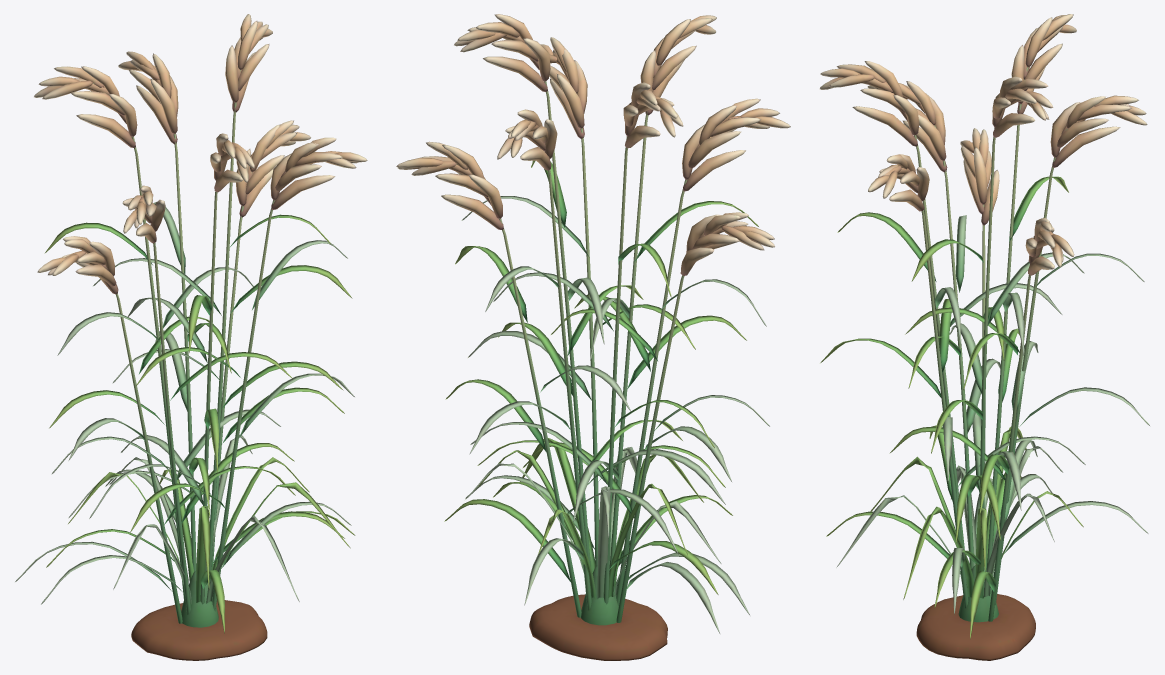
File: reed_clump.fbx
3 views of the same model, side by side, from view 1: azimuth 30°, elevation 25°; view 2: azimuth 150°, elevation 25°; view 3: azimuth 270°, elevation 25° (orthographic). The views are drawn at different scales.
Visible parts, largest first — view 1: reed_clump; view 2: reed_clump; view 3: reed_clump.
Boxes of the visible parts, x1=… form: reed_clump: x1=15, y1=14, x2=367, y2=660; reed_clump: x1=396, y1=14, x2=790, y2=660; reed_clump: x1=819, y1=14, x2=1149, y2=660.
Bounding box in the file's own units: 0.9123 × 1.6 × 0.8129.
Materials: 1 (1 with a texture image).
